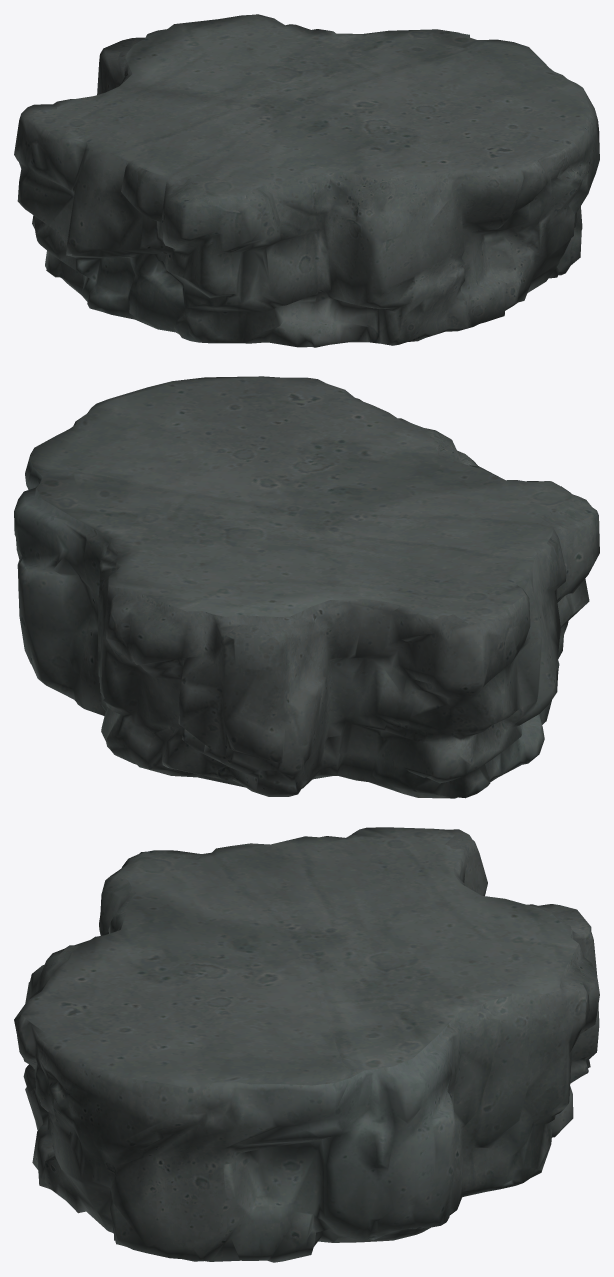
Rendered from Cliff_Glitter04.fbx.
3 views of the same model, one above another, from view 1: azimuth 30°, elevation 25°; view 2: azimuth 150°, elevation 25°; view 3: azimuth 270°, elevation 25° (orthographic). The views are drawn at different scales.
Visible parts, largest first — view 1: SM_Cliff_Rock_Glitter_4.mo; view 2: SM_Cliff_Rock_Glitter_4.mo; view 3: SM_Cliff_Rock_Glitter_4.mo.
Part boxes in pixels (bbox=[...]): SM_Cliff_Rock_Glitter_4.mo: bbox=[14, 14, 599, 347]; SM_Cliff_Rock_Glitter_4.mo: bbox=[14, 376, 599, 798]; SM_Cliff_Rock_Glitter_4.mo: bbox=[14, 827, 599, 1262].
Bounding box in the file's own units: 1031 × 356 × 948.
